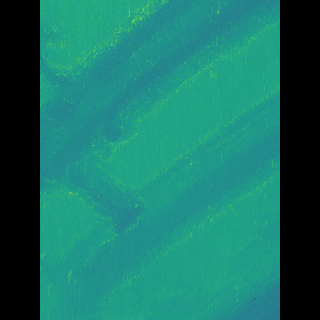Loch: (73, 84, 250, 320), (67, 0, 249, 227)
